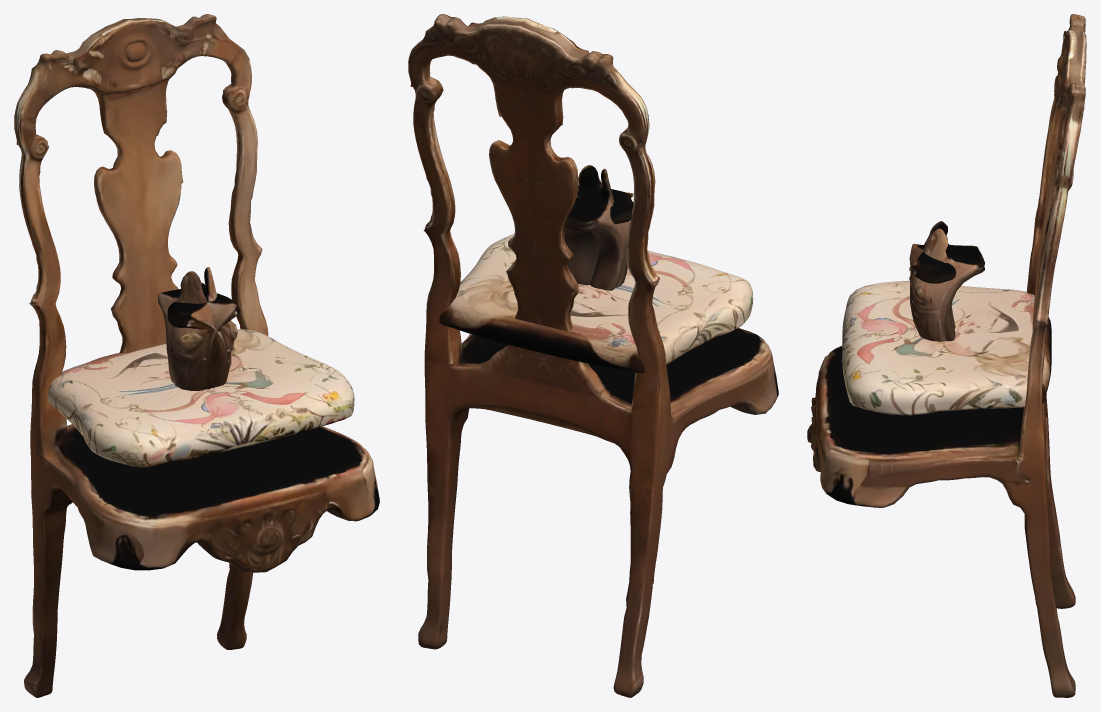
3 views of the same model, side by side, from view 1: azimuth 30°, elevation 25°; view 2: azimuth 150°, elevation 25°; view 3: azimuth 270°, elevation 25° (orthographic). The views are drawn at different scales.
Visible parts, largest first — view 1: root.0, root.1, root.3, root.2; view 2: root.0, root.1, root.3, root.2; view 3: root.0, root.1, root.2, root.3.
Part boxes in pixels (x1,y1,x2,y2): root.0: (14,14,379,697); root.1: (47,329,354,467); root.3: (158,271,240,391); root.2: (167,267,237,388); root.0: (408,14,778,697); root.1: (439,233,753,373); root.3: (573,168,630,290); root.2: (564,165,633,285); root.0: (807,14,1086,697); root.1: (842,281,1051,415); root.2: (909,228,984,341); root.3: (909,221,984,328).
Size of the model in its own units: 15269 by 34192 by 14142.
Materials: 1 (1 with a texture image).
